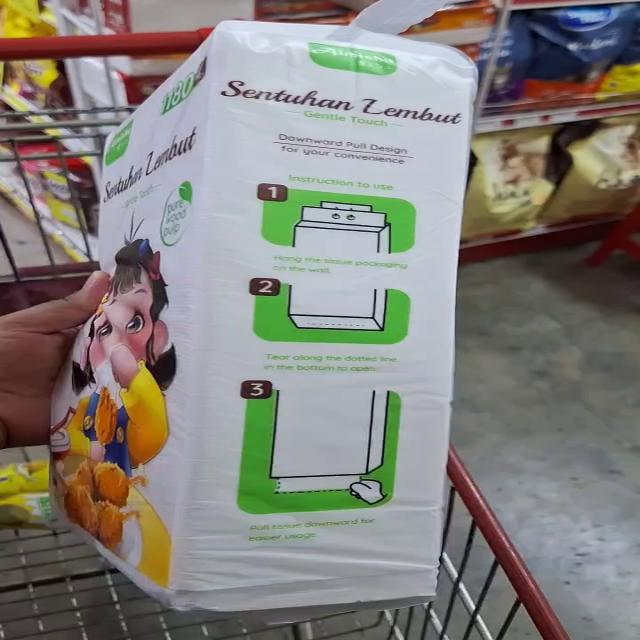Tisu: (59, 308, 486, 614), (74, 64, 490, 348)
